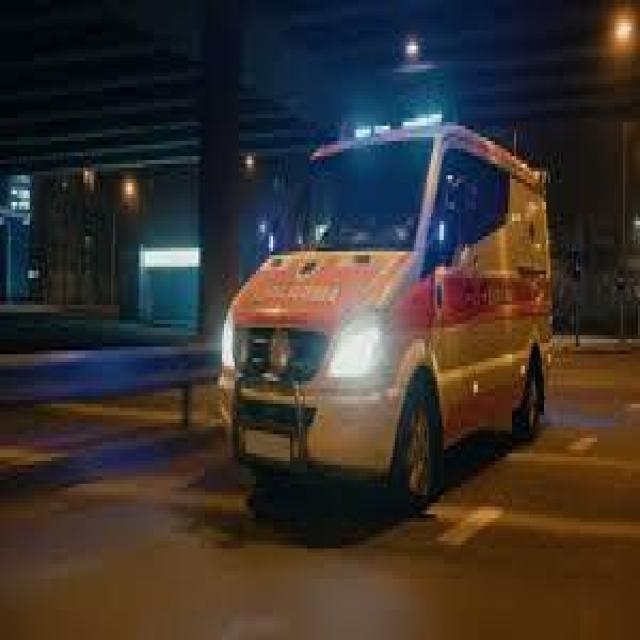ambulance: (216, 101, 556, 434)
